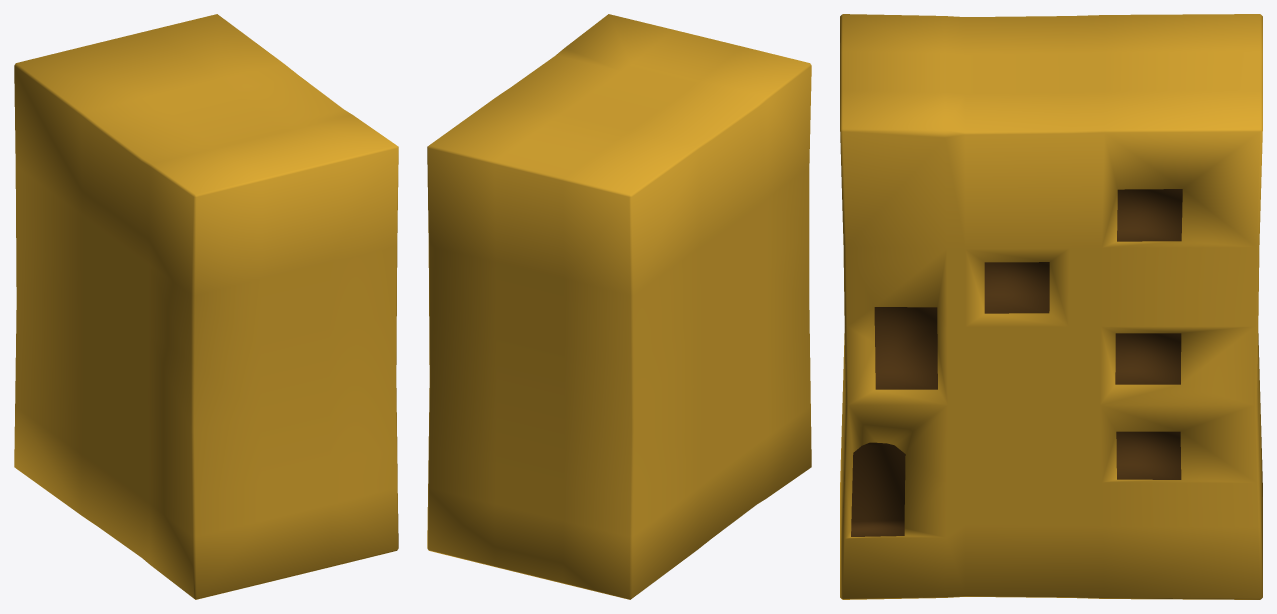
File: Building_Rect.fbx
3 renders of one model, left to right at view 1: azimuth 30°, elevation 25°; view 2: azimuth 150°, elevation 25°; view 3: azimuth 270°, elevation 25°, orthographic. The views are drawn at different scales.
Visible parts, largest first — view 1: Building_Rect; view 2: Building_Rect; view 3: Building_Rect.
Boxes of the visible parts, x1=… form: Building_Rect: x1=14, y1=14, x2=398, y2=599; Building_Rect: x1=427, y1=14, x2=811, y2=599; Building_Rect: x1=840, y1=14, x2=1262, y2=599.
Size of the model in its own units: 7.94 by 12.18 by 15.01.
